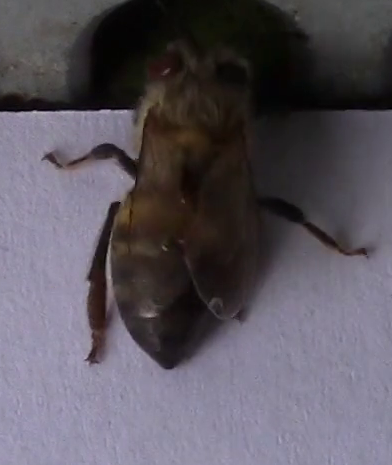Varroa destructor: (144, 54, 186, 82)
